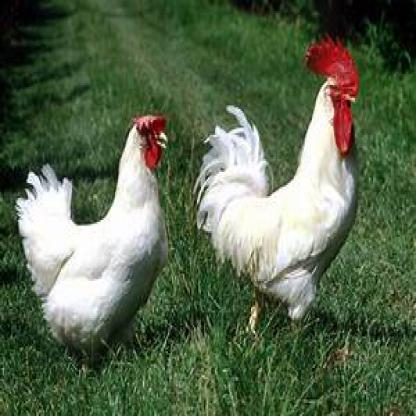chicken: (194, 35, 361, 329), (17, 117, 169, 366)
